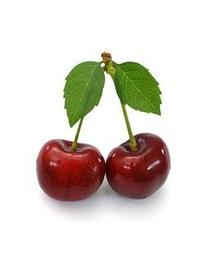cherry: (106, 133, 171, 200), (36, 140, 105, 202)
